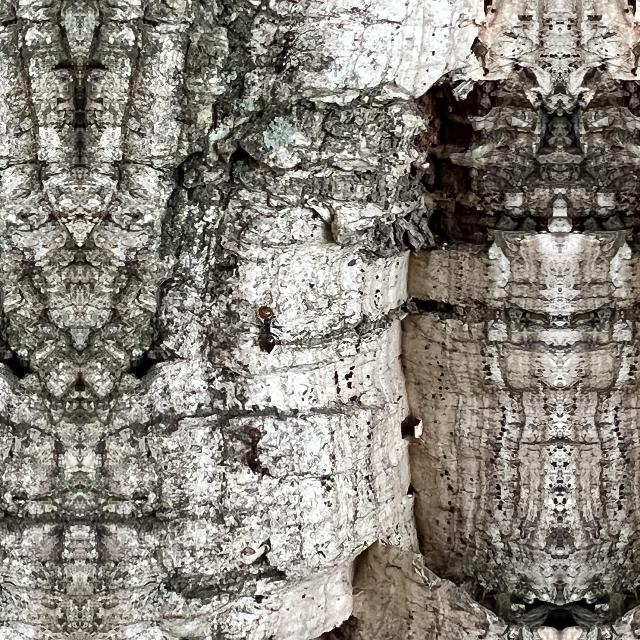Crematogaster: (246, 296, 282, 356)
